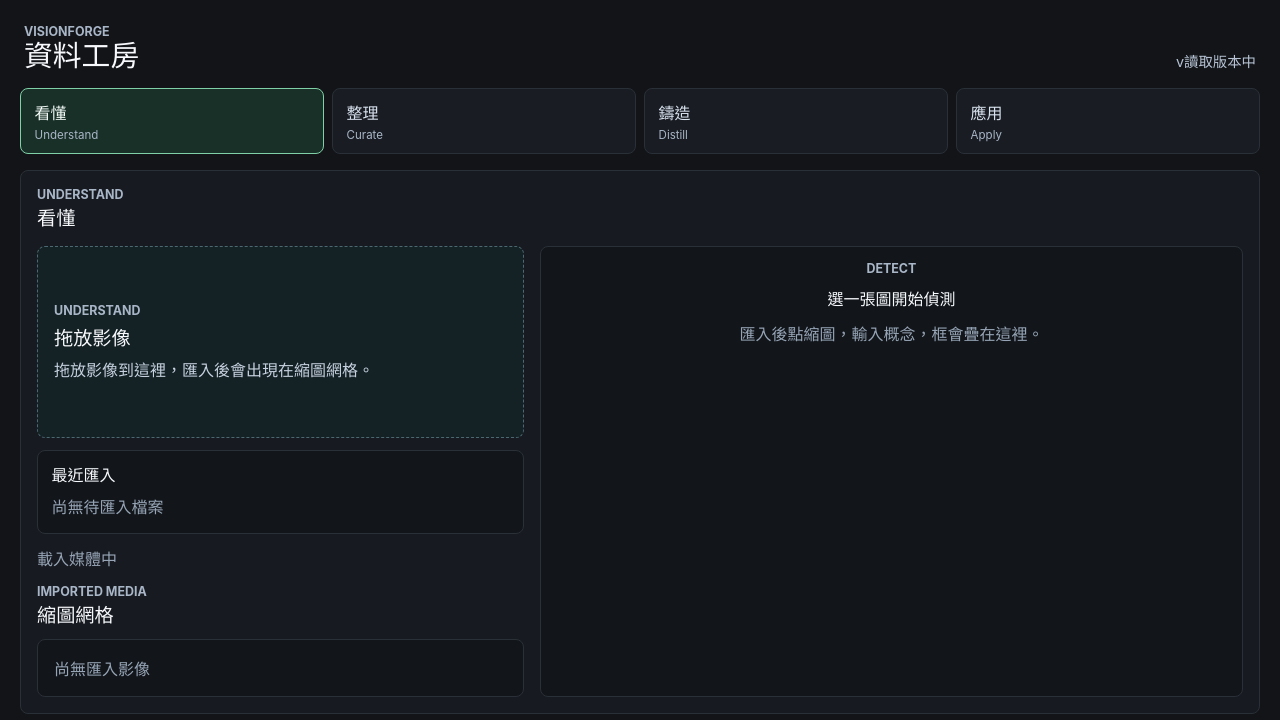
Test: App › shows an empty recalibration result for 204 responses
This screenshot has width=1280, height=720.
What coordinates should you click on to do the following:
click the button "整理 Curate"
I would click on:
 (363, 113)
Its box is 332,88 -> 636,154.
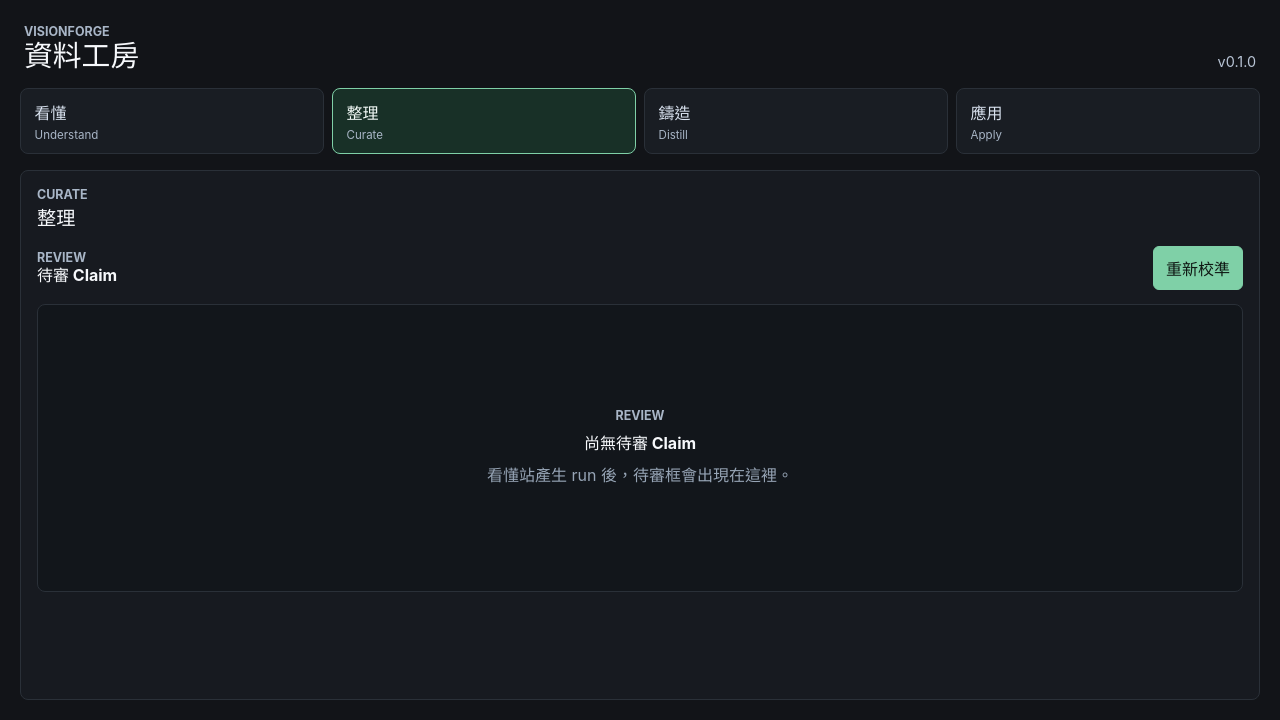
What coordinates should you click on to do the following:
click the button "重新校準"
I would click on:
 (1198, 268)
Its box is 1153,246 -> 1243,290.
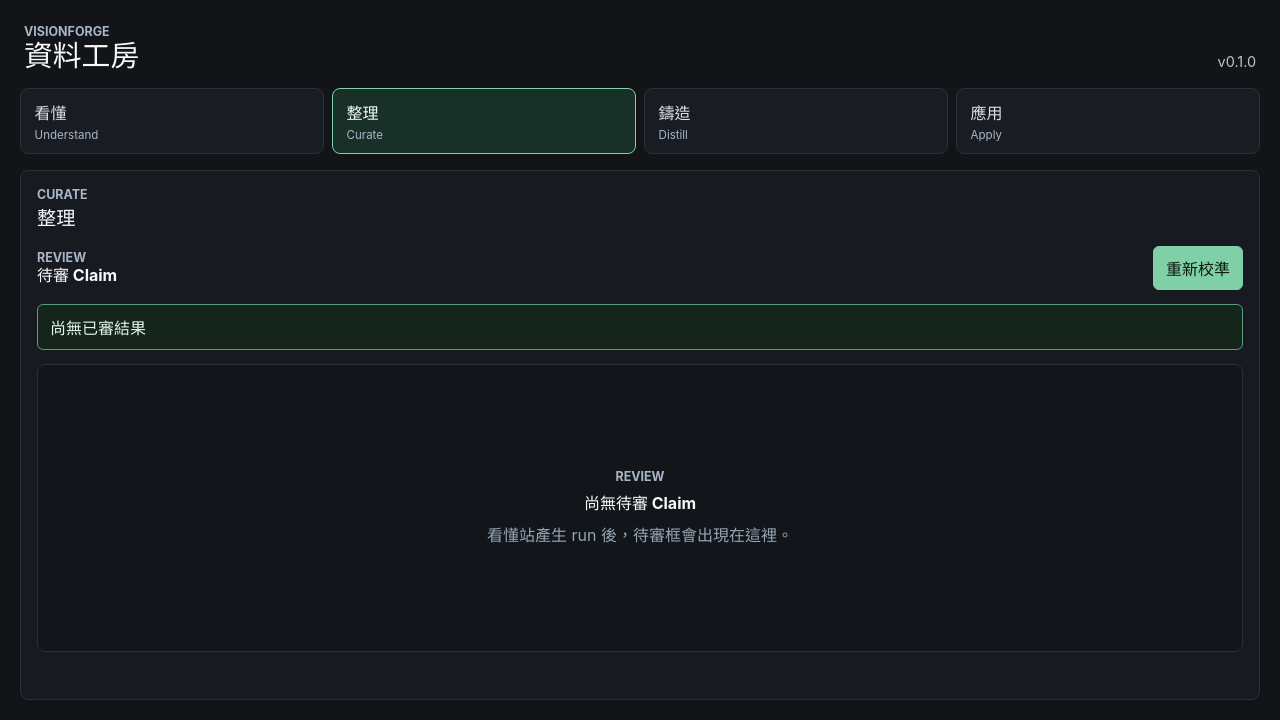
Result: the text "尚無已審結果" is shown at 37,304 -> 1243,350
